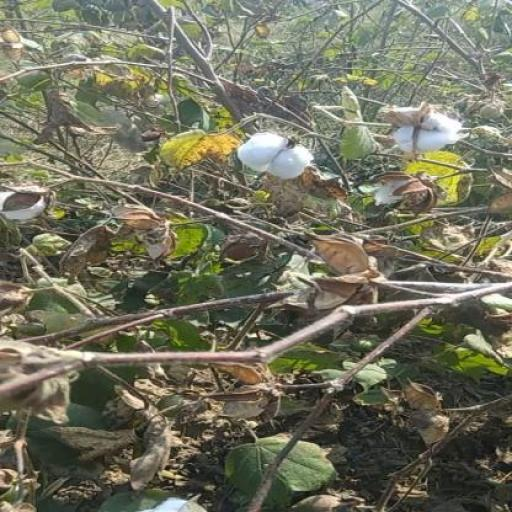cotton_ready: (219, 128, 332, 192), (369, 96, 463, 166)
